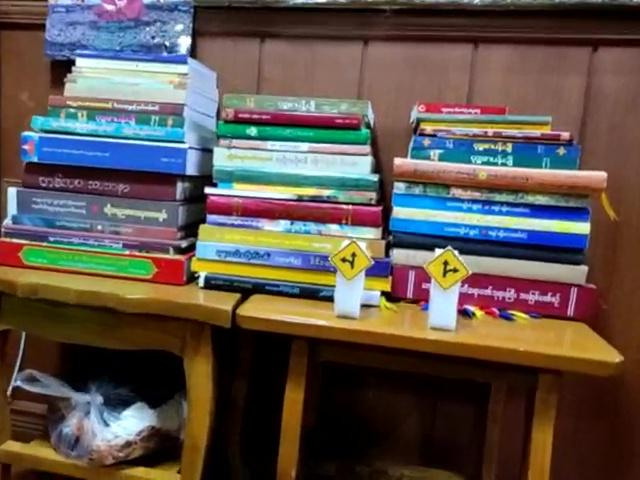Straight Or Left Sign: (327, 238, 376, 282)
Straight Or Right Sign: (421, 251, 474, 290)
